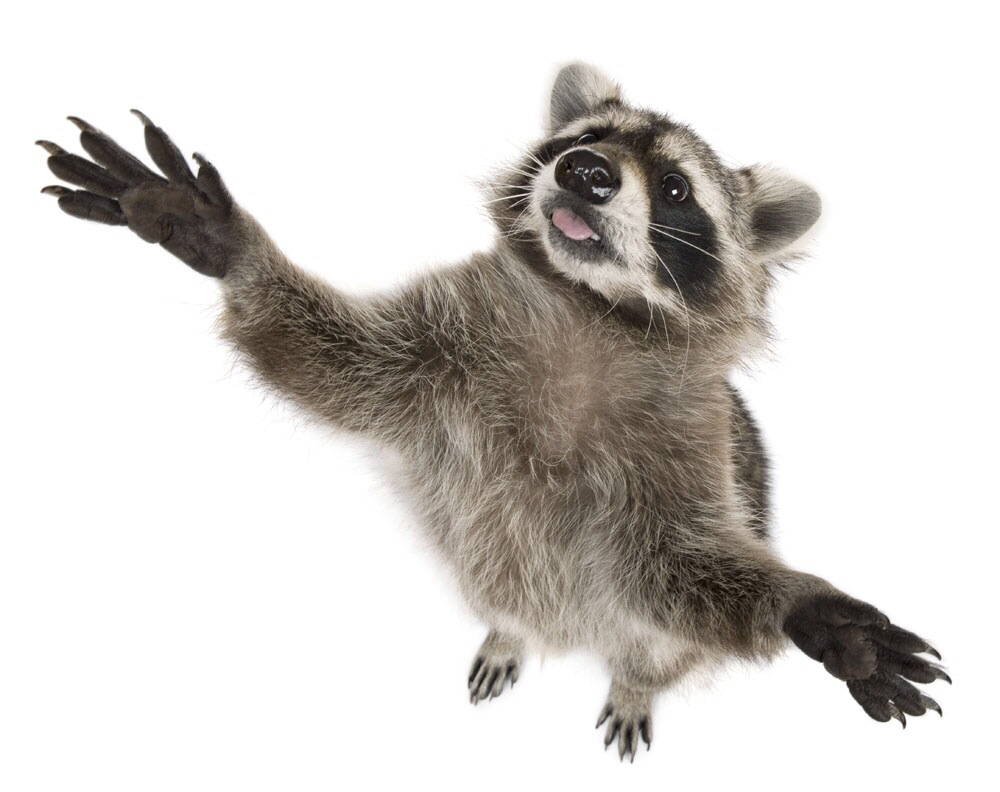raccoon: (32, 52, 963, 763)
